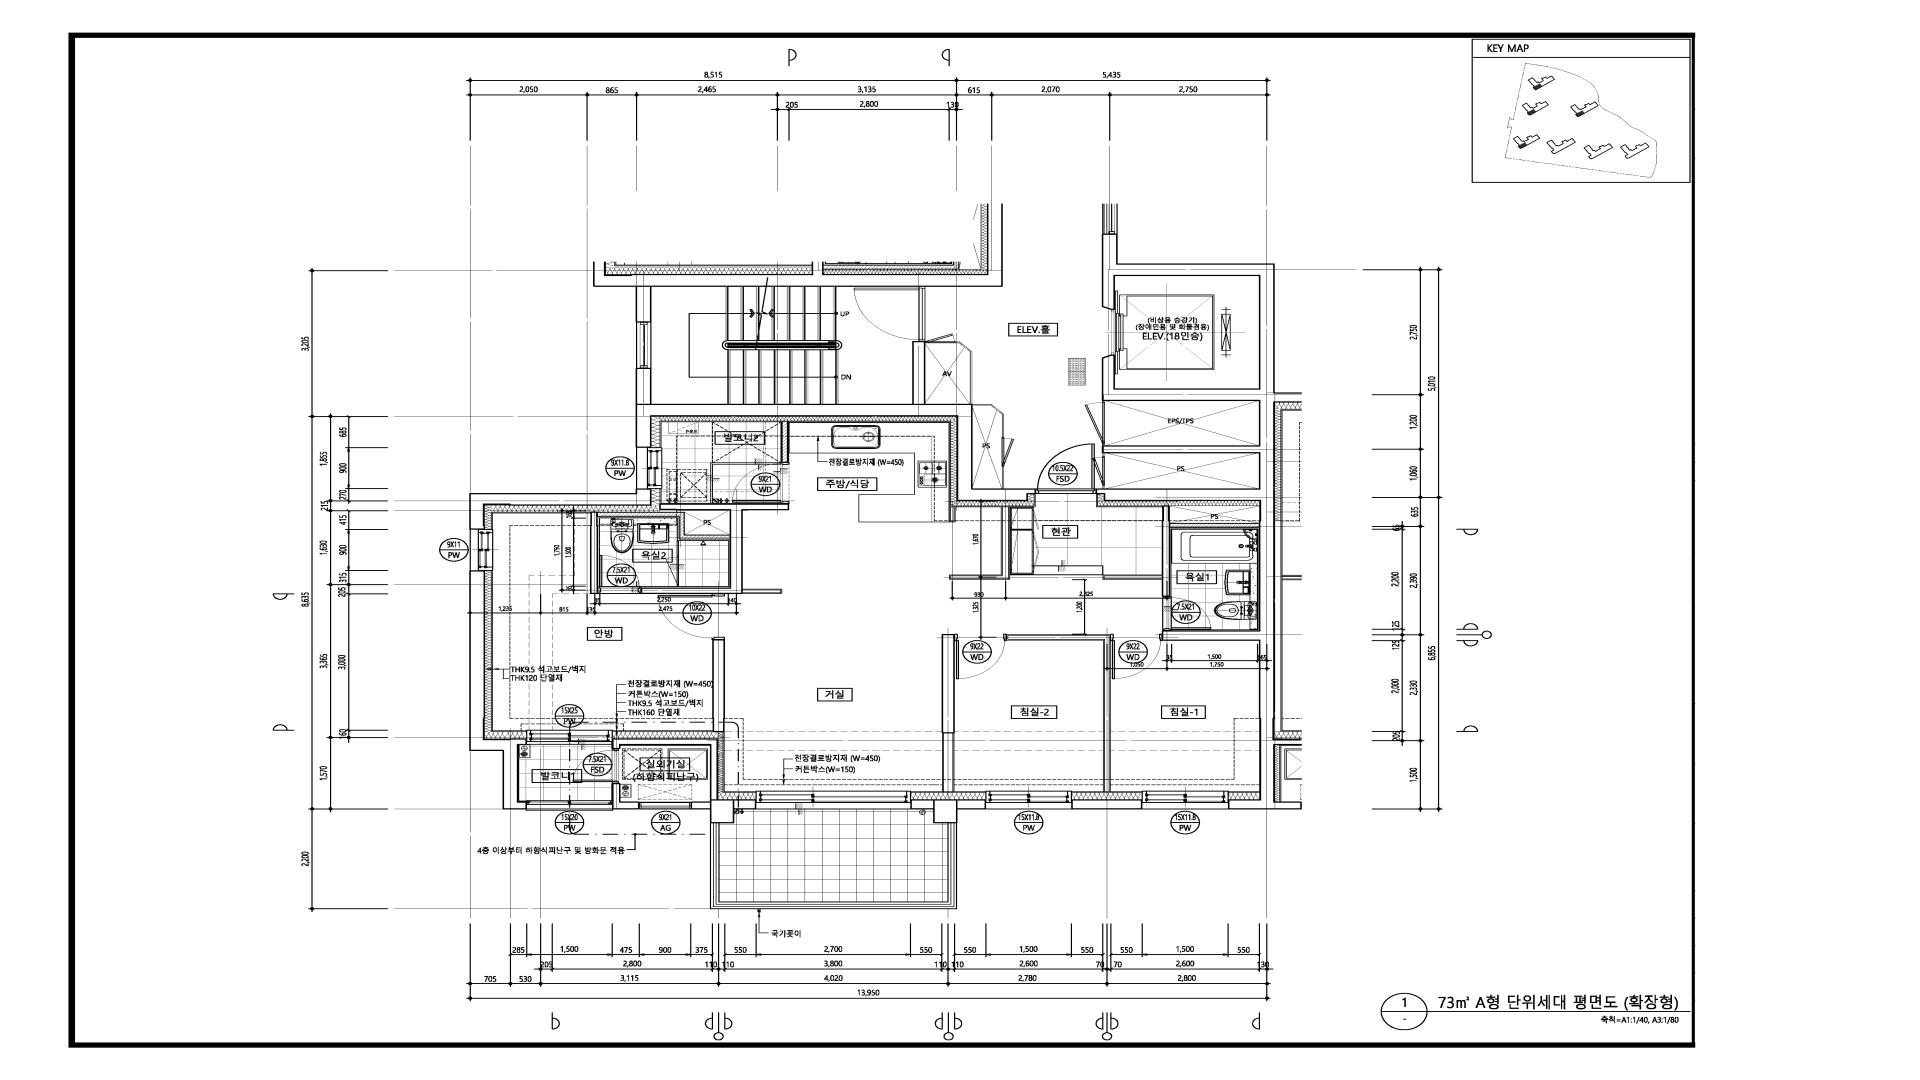door: (853, 287, 926, 342), (1035, 443, 1096, 495), (657, 595, 725, 640), (955, 634, 1006, 679), (1110, 634, 1162, 679), (732, 463, 790, 502), (1162, 596, 1212, 630), (572, 749, 620, 783), (599, 555, 641, 593), (1085, 401, 1105, 446), (666, 555, 679, 587), (1092, 456, 1105, 485), (1002, 436, 1014, 467), (926, 334, 956, 343)
wall: (1096, 233, 1275, 810), (636, 368, 1035, 501), (636, 203, 1004, 322), (589, 502, 790, 595), (1006, 634, 1110, 793), (1102, 505, 1259, 596), (469, 571, 527, 810), (612, 738, 757, 823), (469, 488, 651, 530), (949, 506, 1010, 580), (942, 634, 955, 793), (910, 799, 986, 823), (712, 640, 725, 732), (956, 342, 972, 404), (973, 405, 1004, 436), (913, 342, 926, 404), (1071, 799, 1142, 810), (612, 783, 640, 810), (781, 421, 789, 463), (948, 506, 956, 522), (676, 541, 679, 555), (1002, 467, 1004, 488), (1102, 485, 1105, 488), (1102, 454, 1105, 456)
window: (757, 791, 910, 810), (986, 791, 1071, 810), (1143, 791, 1228, 810), (526, 729, 612, 745), (636, 448, 662, 488), (469, 530, 493, 570), (527, 800, 612, 811), (636, 323, 651, 368), (640, 802, 691, 810)
